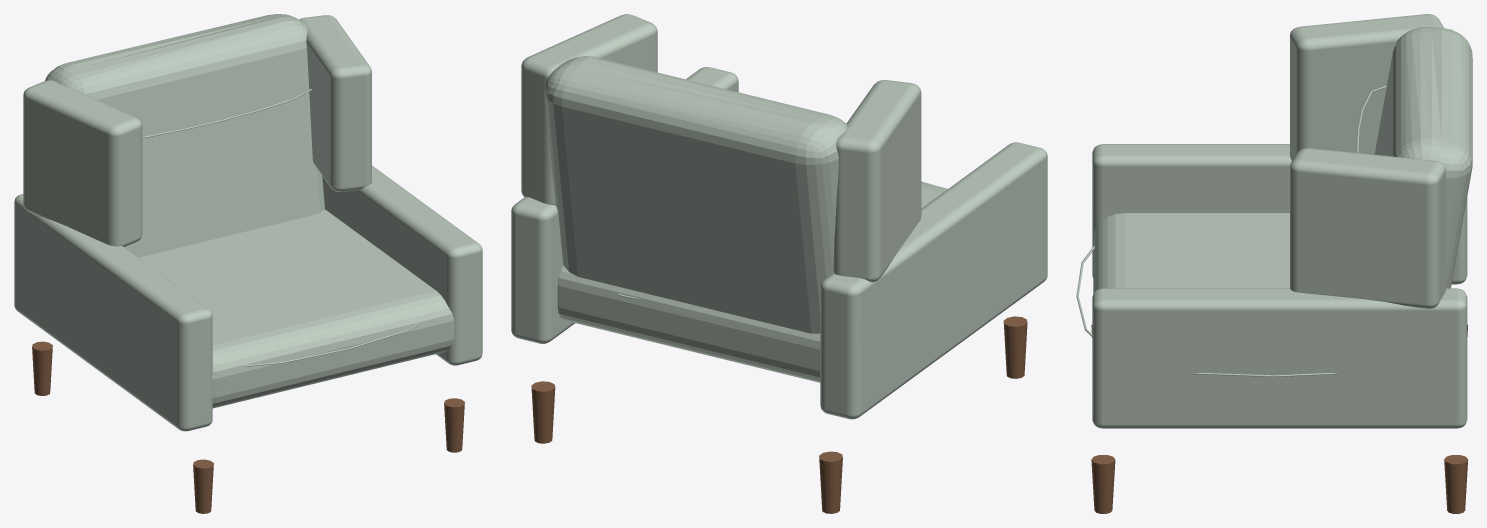
File: chair-1-3.glb
The picture shows the model from 3 angles, left to right: view 1: azimuth 30°, elevation 25°; view 2: azimuth 150°, elevation 25°; view 3: azimuth 270°, elevation 25°; orthographic projection. The views are drawn at different scales.
Parts seen in each view (by area): view 1: tailored-cushion, part; view 2: tailored-cushion, part; view 3: tailored-cushion, part.
Boxes of the visible parts, x1,y1,x2,y2 form: tailored-cushion: (14, 14, 482, 431); part: (32, 341, 464, 513); tailored-cushion: (511, 14, 1047, 419); part: (531, 316, 1027, 513); tailored-cushion: (1076, 14, 1472, 428); part: (1091, 324, 1468, 513).
Size of the model in its own units: 1 by 1 by 1.
